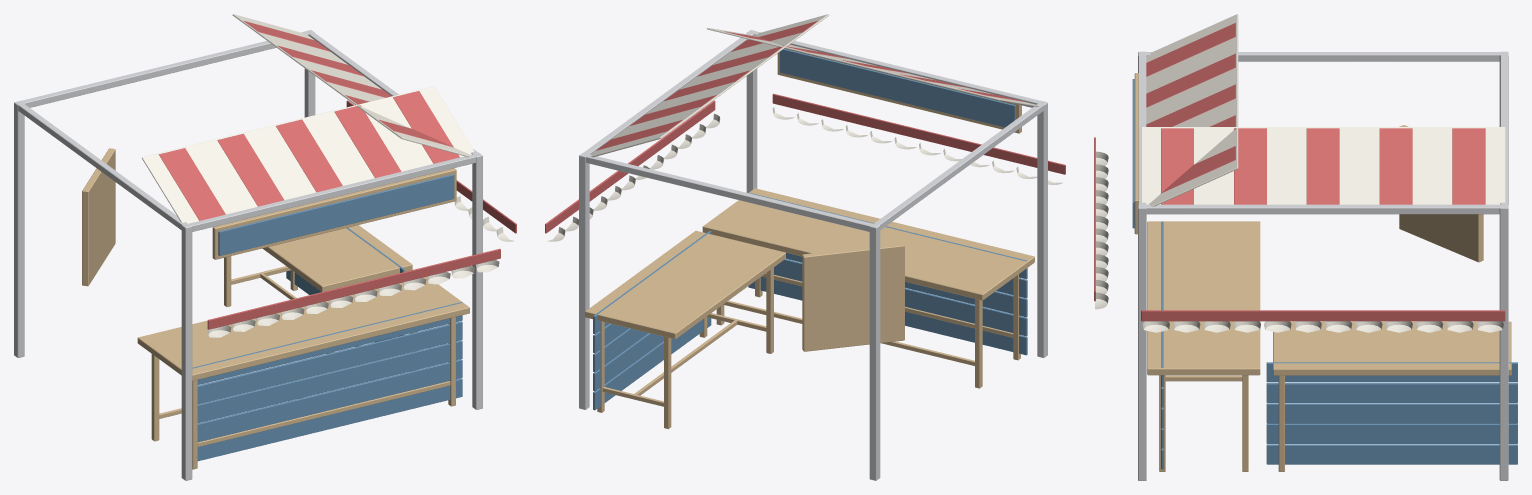
The model's file is indoor-market-hall-and-traders-corner-stall-unit-62d7d118.glb.
3 views of the same model, side by side, from view 1: azimuth 30°, elevation 25°; view 2: azimuth 150°, elevation 25°; view 3: azimuth 270°, elevation 25° (orthographic). The views are drawn at different scales.
Parts seen in each view (by area): view 1: corner-stall-unit; view 2: corner-stall-unit; view 3: corner-stall-unit.
Boxes of the visible parts, left/top/right/bottom form: corner-stall-unit: left=14, top=14, right=516, bottom=480; corner-stall-unit: left=545, top=14, right=1065, bottom=480; corner-stall-unit: left=1094, top=14, right=1517, bottom=480.
Bounding box in the file's own units: 3.3 × 2.74 × 3.38.
